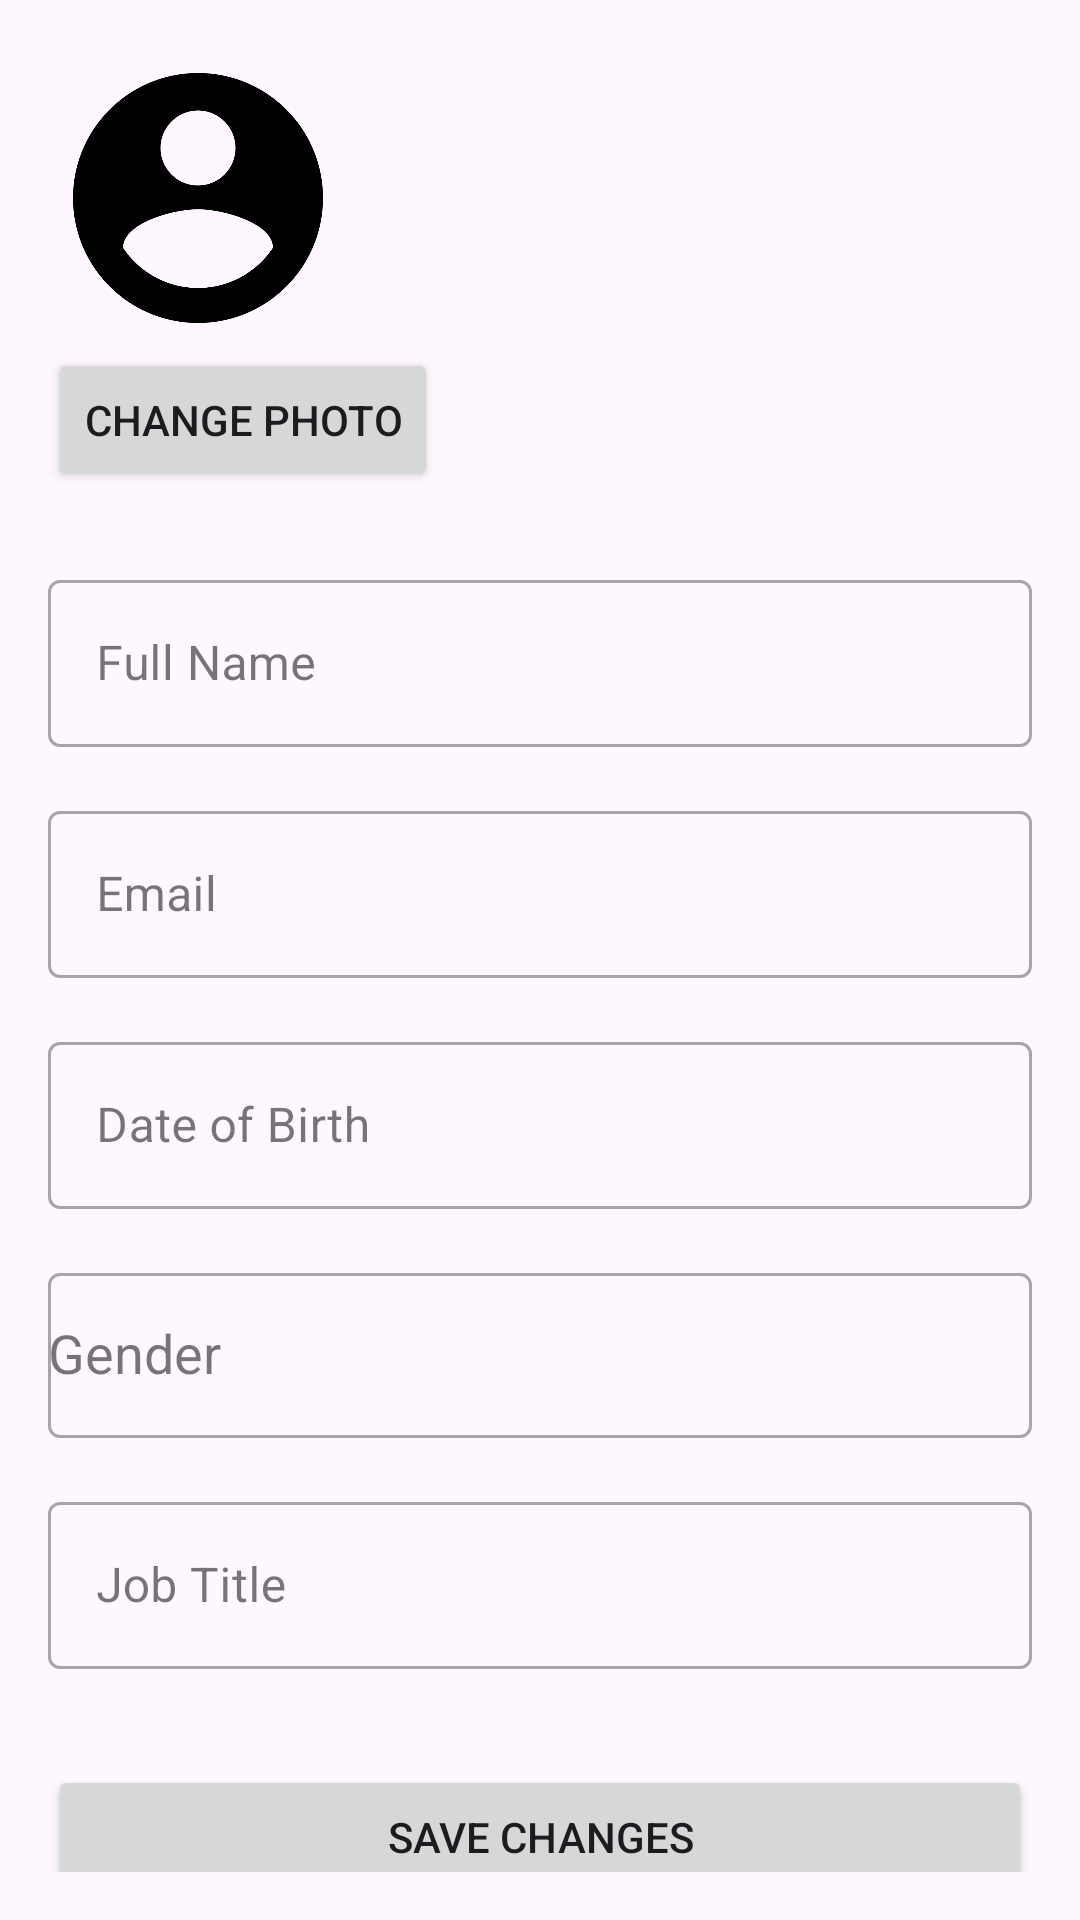

Icon click points for this 1080px x 1920px phone screenshot, format (x,y):
Profile Image: (198,198)
